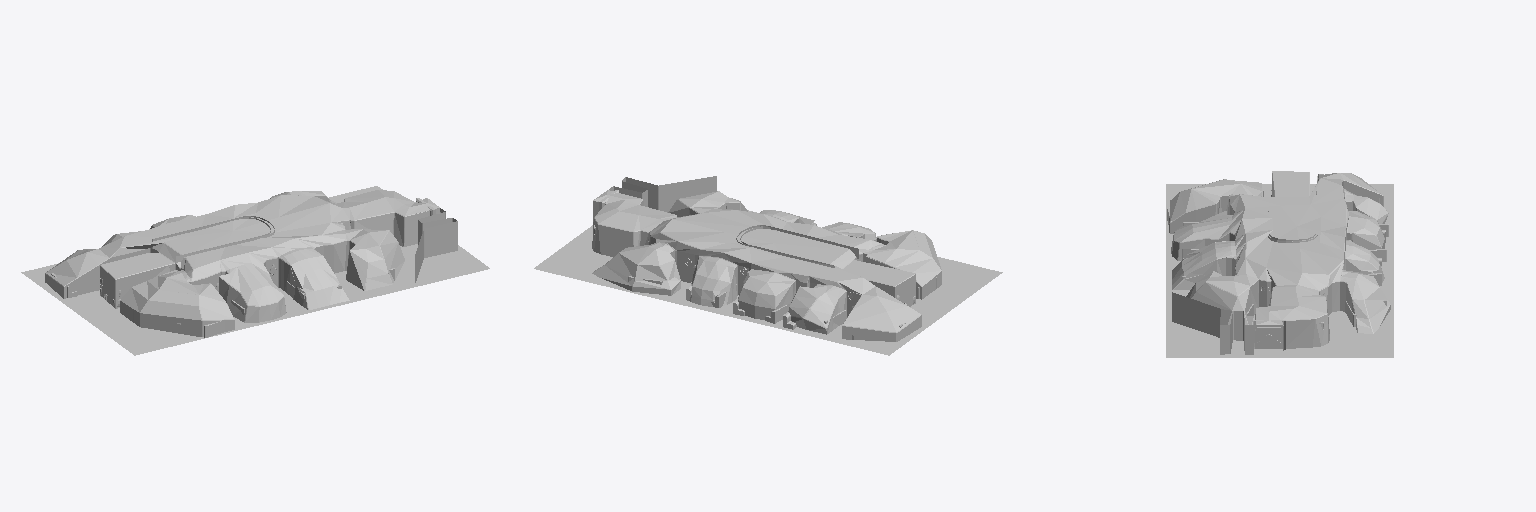
The model's file is Check (1).obj.
The picture shows the model from 3 angles: view 1: azimuth 30°, elevation 25°; view 2: azimuth 150°, elevation 25°; view 3: azimuth 270°, elevation 25°; orthographic projection.
Visible parts, largest first — view 1: Paredes_Plane.001, Chao_Plane, Cube.002_Cube.022; view 2: Paredes_Plane.001, Chao_Plane, Cube.002_Cube.022; view 3: Paredes_Plane.001, Chao_Plane, Plane_Plane.002.
Boxes of the visible parts, box(x1,y1,x2,y2) form: Paredes_Plane.001: box(45, 190, 457, 336); Chao_Plane: box(21, 186, 489, 355); Cube.002_Cube.022: box(151, 216, 274, 268); Paredes_Plane.001: box(592, 176, 941, 341); Chao_Plane: box(534, 210, 1002, 355); Cube.002_Cube.022: box(736, 225, 861, 267); Paredes_Plane.001: box(1169, 171, 1390, 354); Chao_Plane: box(1166, 184, 1393, 357); Plane_Plane.002: box(1253, 320, 1285, 349).
Bounding box in the file's own units: 37.59 × 4.96 × 20.77.